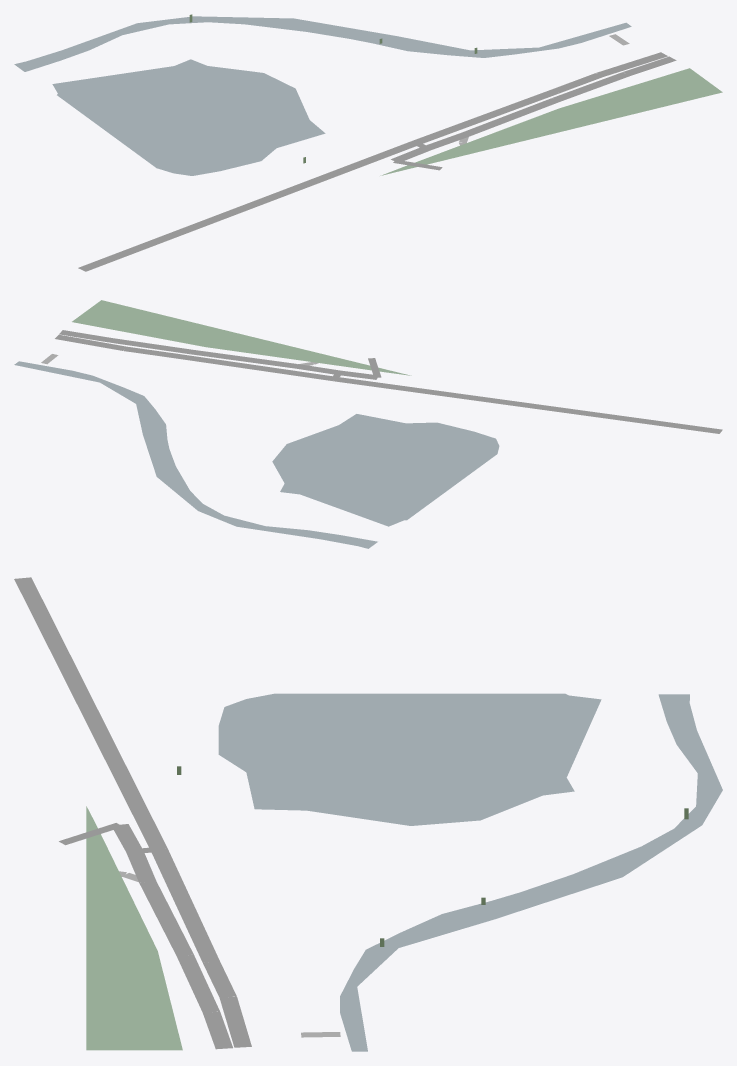
The picture shows the model from 3 angles, top to bottom: view 1: azimuth 30°, elevation 25°; view 2: azimuth 150°, elevation 25°; view 3: azimuth 270°, elevation 25°; orthographic projection. The views are drawn at different scales.
Bounding box in the file's own units: 661 × 7.7 × 419.
